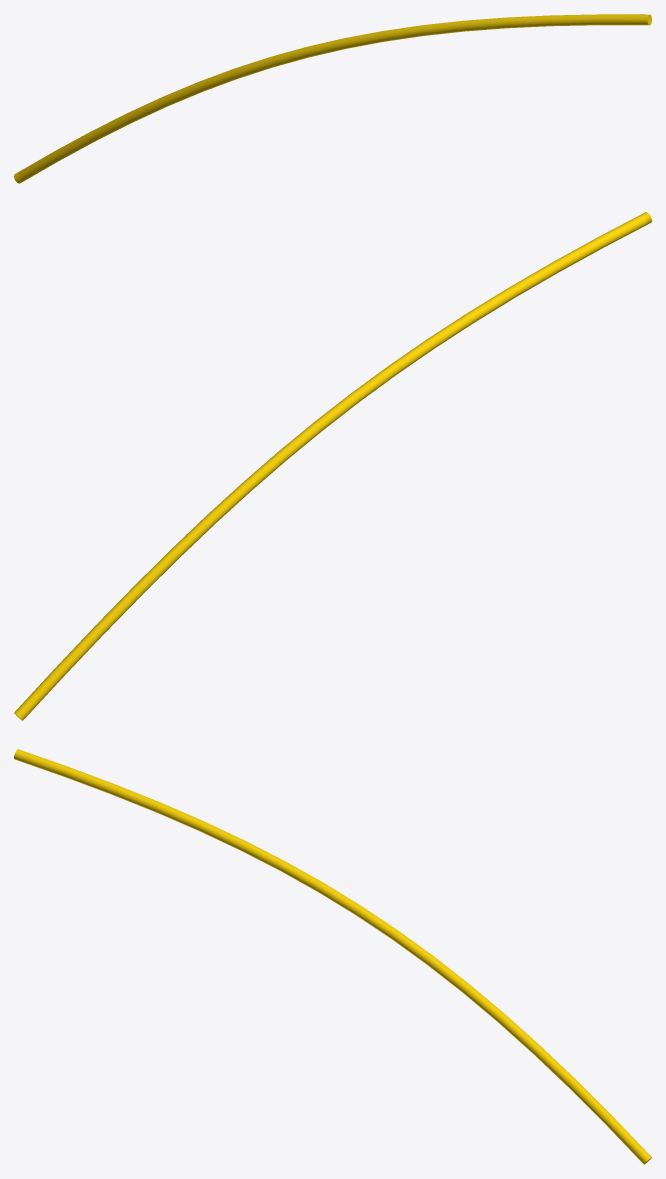
File: Event_421115418_track_4.fbx
3 renders of one model, top to bottom at view 1: azimuth 90°, elevation 25°; view 2: azimuth 150°, elevation 25°; view 3: azimuth 270°, elevation 25°, orthographic. The views are drawn at different scales.
Parts seen in each view (by area): view 1: Model; view 2: Model; view 3: Model.
Part boxes in pixels (x1=…): Model: x1=14, y1=14, x2=651, y2=183; Model: x1=14, y1=212, x2=651, y2=720; Model: x1=14, y1=749, x2=651, y2=1164.
Bounding box in the file's own units: 1.12 × 1.18 × 2.35.
